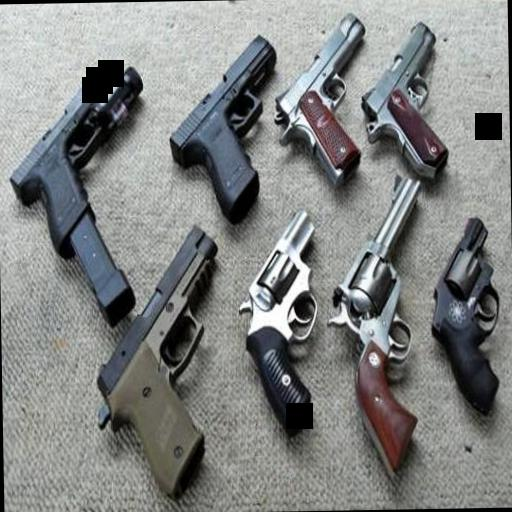Handgun: (89, 212, 220, 499), (326, 170, 428, 480), (7, 57, 145, 260), (163, 34, 284, 216), (236, 208, 325, 444), (268, 12, 372, 177), (429, 208, 499, 417), (356, 21, 444, 174)
